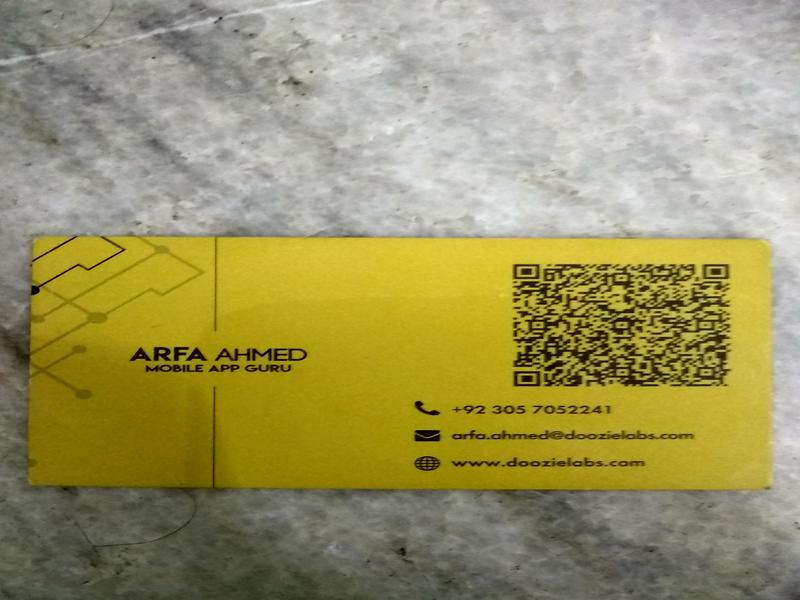front: (24, 229, 777, 494)
